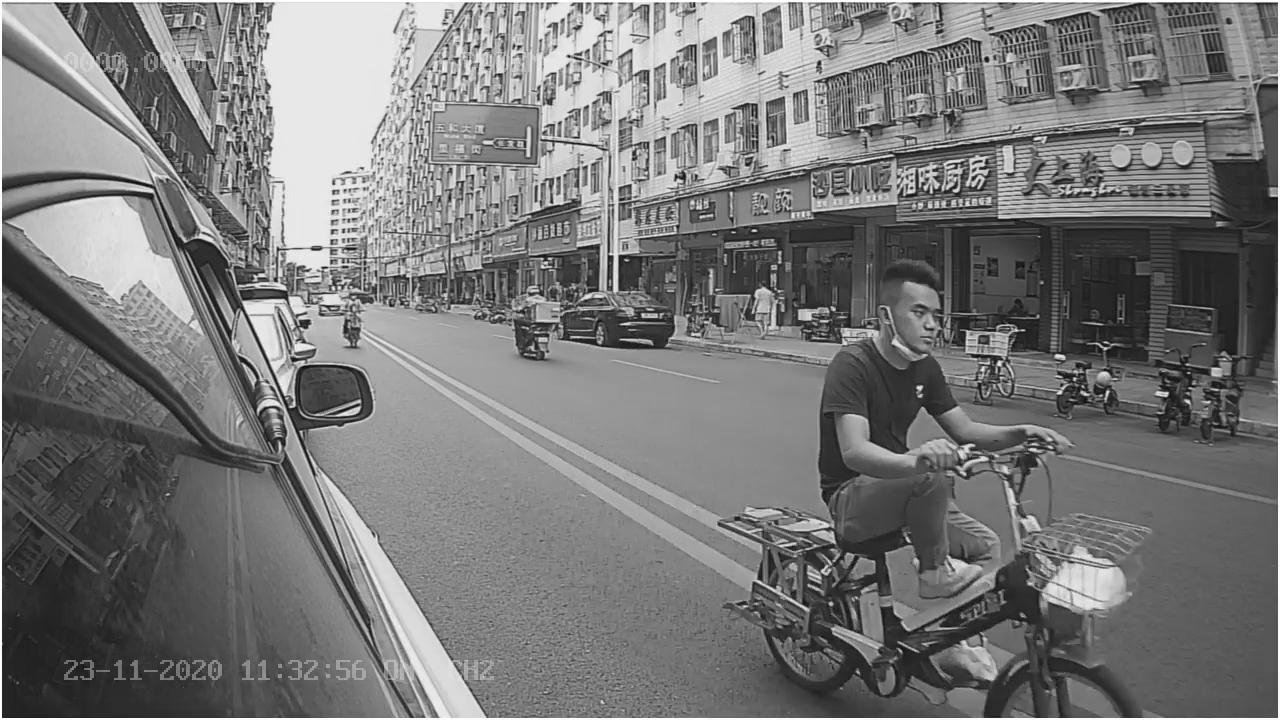person: (817, 243, 1027, 469)
